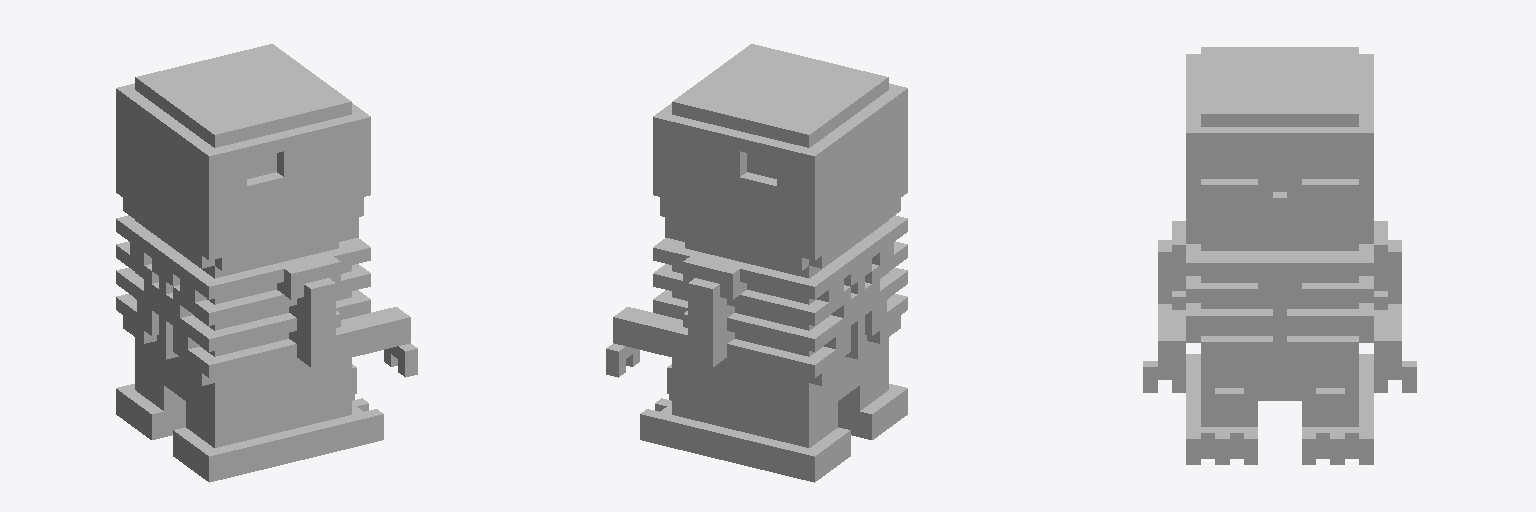
File: Package 01 Necro Dungeon-5.obj
3 views of the same model, side by side, from view 1: azimuth 30°, elevation 25°; view 2: azimuth 150°, elevation 25°; view 3: azimuth 270°, elevation 25° (orthographic).
Visible parts, largest first — view 1: object 1; view 2: object 1; view 3: object 1.
Part boxes in pixels (x1,y1,x2,y2): object 1: (116, 44, 417, 482); object 1: (606, 44, 907, 482); object 1: (1143, 47, 1416, 464).
Size of the model in its own units: 1.5 by 2.6 by 1.9.